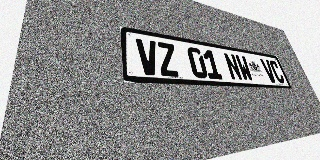0: (186, 46, 209, 79)
1: (201, 49, 223, 80)
C: (268, 60, 286, 83)
N: (223, 52, 243, 81)
V: (136, 38, 161, 76), (260, 59, 278, 83)
W: (234, 54, 254, 81)
Z: (156, 41, 180, 77)
